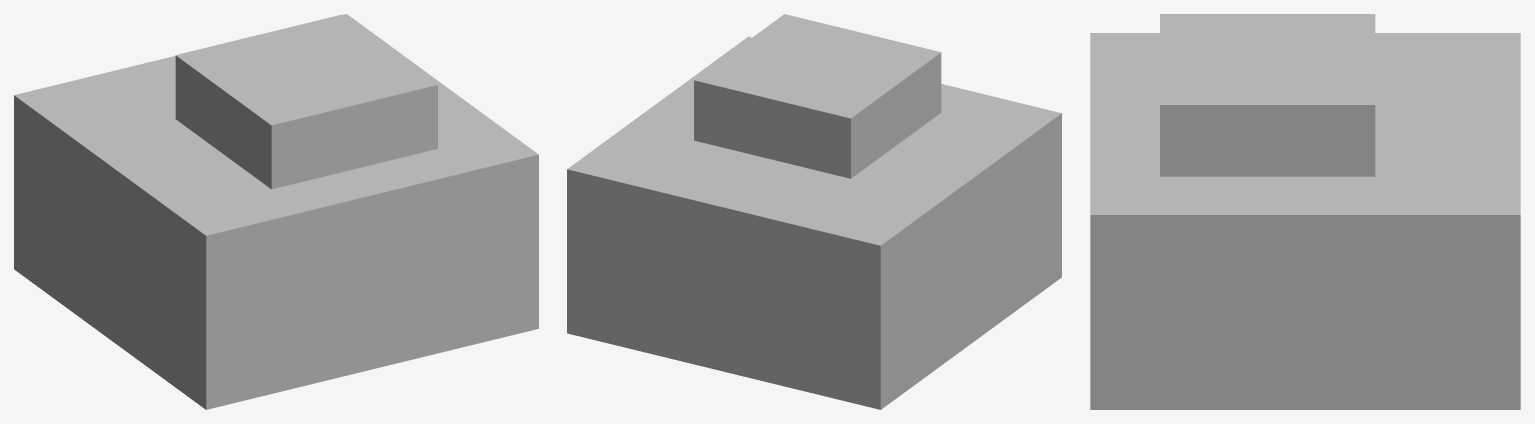
Rendered from boulder_1x1_wide_2.fbx.
The picture shows the model from 3 angles, left to right: view 1: azimuth 30°, elevation 25°; view 2: azimuth 150°, elevation 25°; view 3: azimuth 270°, elevation 25°; orthographic projection. The views are drawn at different scales.
Visible parts, largest first — view 1: Cube.071; view 2: Cube.071; view 3: Cube.071.
Part boxes in pixels (<box>): Cube.071: <box>14,14,538,409</box>; Cube.071: <box>567,14,1061,409</box>; Cube.071: <box>1090,14,1520,409</box>.
Bounding box in the file's own units: 200 × 137 × 200.
Materials: 1 (1 with a texture image).
